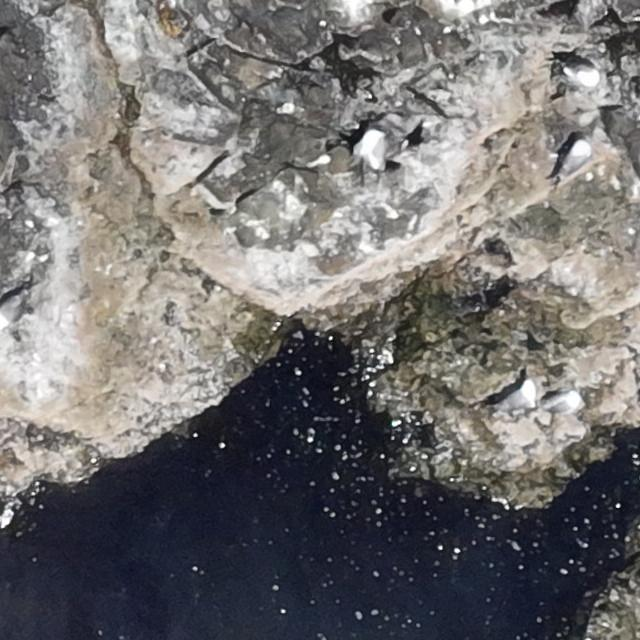umineko: (556, 139, 590, 185), (359, 124, 386, 174), (560, 58, 600, 87), (540, 392, 580, 416), (504, 386, 532, 410), (0, 297, 20, 322)
